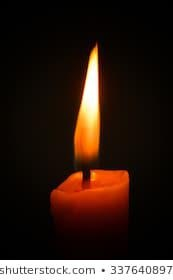fire: (73, 37, 100, 163)
